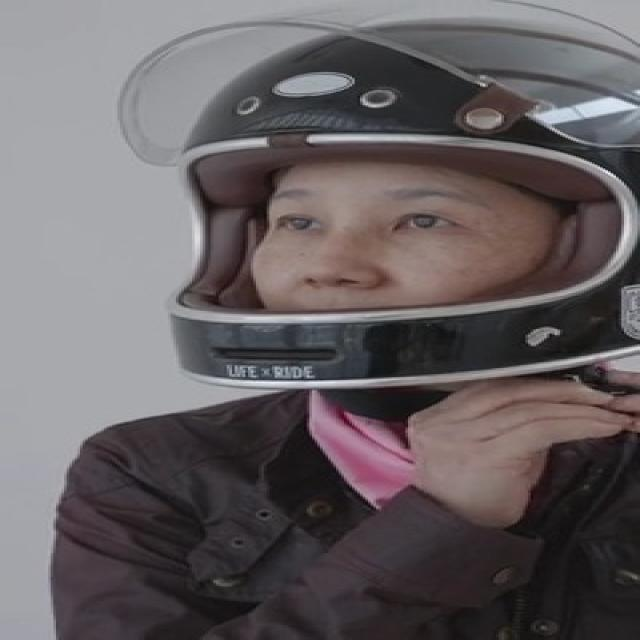Helmet_Wearer: (119, 4, 640, 402)
Person: (61, 0, 640, 640)
